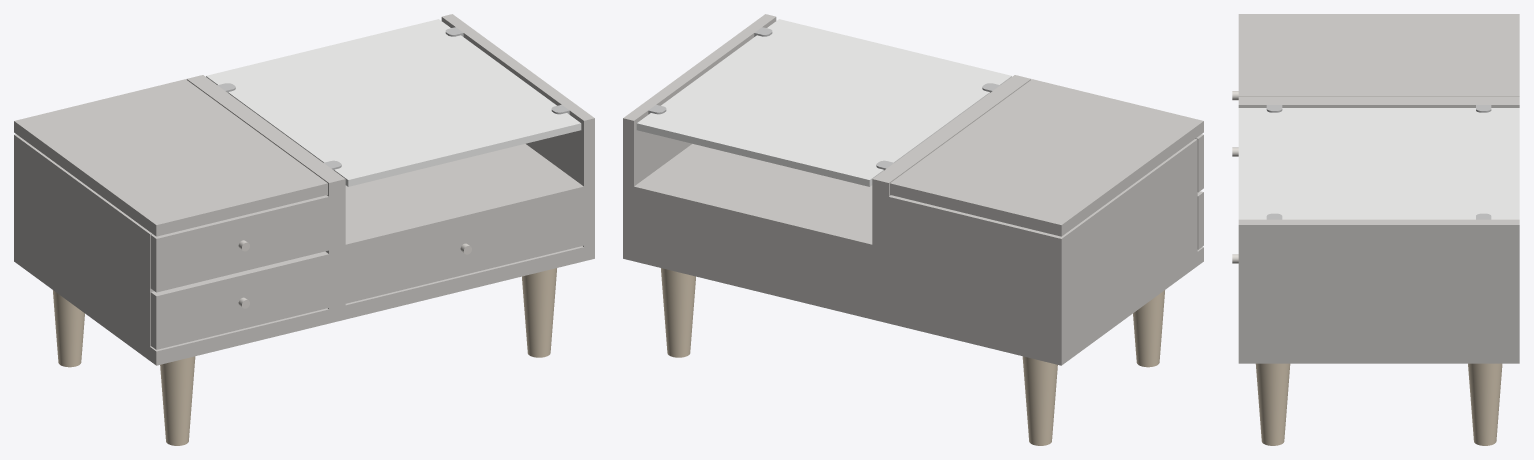
Rendered from 386_センターテーブル.glb.
The picture shows the model from 3 angles, left to right: view 1: azimuth 30°, elevation 25°; view 2: azimuth 150°, elevation 25°; view 3: azimuth 270°, elevation 25°; orthographic projection.
Parts seen in each view (by area): view 1: 385_センターテーブル, 引き出し右, 引き出し左下, 引き出し左上; view 2: 385_センターテーブル; view 3: 385_センターテーブル.
Part boxes in pixels (x1=…): 385_センターテーブル: x1=14, y1=14, x2=594, y2=445; 引き出し右: x1=345, y1=192, x2=583, y2=303; 引き出し左下: x1=150, y1=251, x2=328, y2=349; 引き出し左上: x1=150, y1=195, x2=328, y2=292; 385_センターテーブル: x1=623, y1=14, x2=1203, y2=445; 385_センターテーブル: x1=1238, y1=14, x2=1519, y2=445.
Bounding box in the file's own units: 0.8 × 0.415 × 0.46.
